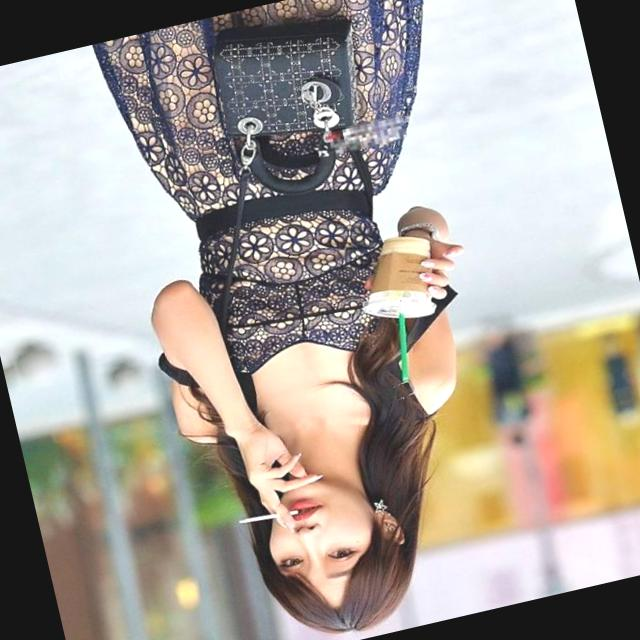smoke: (214, 493, 306, 544)
